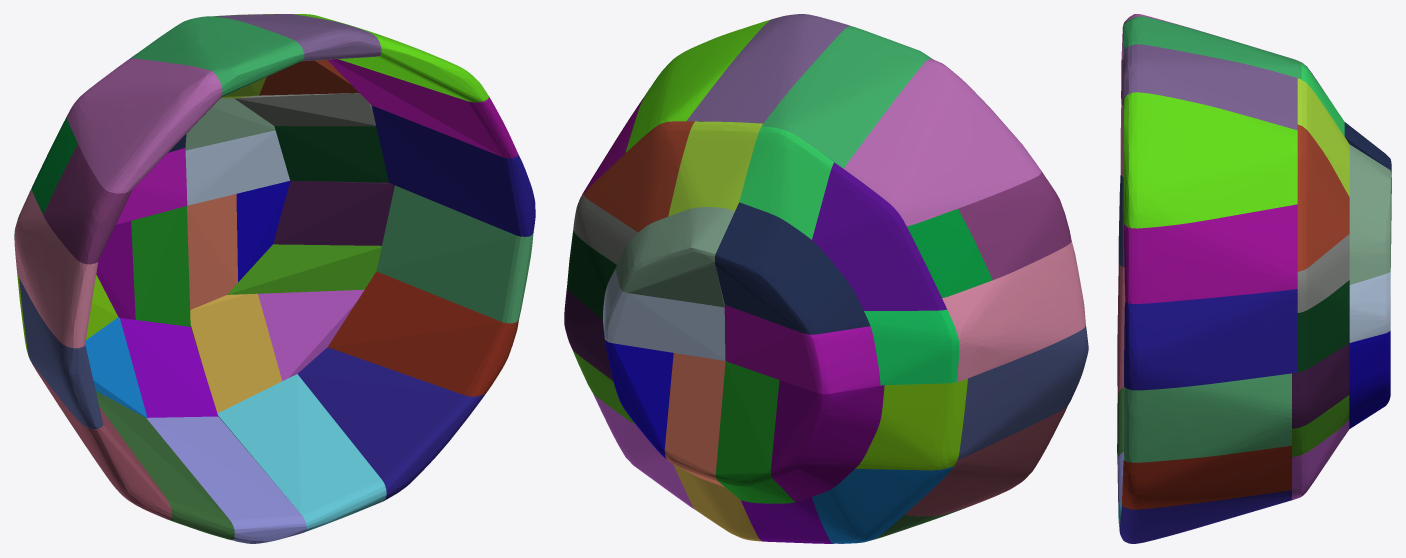
Rendered from coacd_collision.obj.
3 renders of one model, left to right at view 1: azimuth 30°, elevation 25°; view 2: azimuth 150°, elevation 25°; view 3: azimuth 270°, elevation 25°, orthographic. The views are drawn at different scales.
Parts seen in each view (by area): view 1: geometry_15, geometry_2, geometry_18, geometry_3, geometry_7, geometry_20, geometry_12, geometry_37, geometry_10, geometry_24, geometry_26, geometry_32 (+22 smaller); view 2: geometry_7, geometry_21, geometry_10, geometry_24, geometry_27, geometry_11, geometry_22, geometry_16, geometry_1, geometry_0, geometry_4, geometry_8 (+20 smaller); view 3: geometry_17, geometry_20, geometry_14, geometry_3, geometry_1, geometry_15, geometry_31, geometry_0, geometry_10, geometry_18, geometry_5, geometry_25 (+11 smaller).
Part boxes in pixels (x1,y1,x2,y2): geometry_15: (328,271,518,396); geometry_2: (217,374,386,531); geometry_18: (297,347,485,500); geometry_3: (376,185,533,323); geometry_7: (67,58,222,193); geometry_20: (371,105,535,236); geometry_12: (146,416,306,543); geometry_37: (190,293,281,413); geometry_10: (130,16,304,97); geometry_24: (14,188,97,348); geometry_26: (273,180,394,245); geometry_32: (120,318,218,417); geometry_7: (844,59,1041,226); geometry_21: (715,202,870,334); geometry_10: (761,26,933,168); geometry_24: (942,241,1085,381); geometry_27: (812,162,946,310); geometry_11: (770,380,884,501); geometry_22: (724,305,880,394); geometry_16: (957,326,1088,460); geometry_1: (686,14,850,123); geometry_0: (615,207,734,307); geometry_4: (855,378,967,470); geometry_8: (715,361,795,503); geometry_17: (1123,92,1297,228); geometry_20: (1124,289,1297,390); geometry_14: (1124,204,1297,303); geometry_3: (1123,373,1291,462); geometry_1: (1123,44,1297,130); geometry_15: (1122,445,1291,509); geometry_31: (1297,124,1349,271); geometry_0: (1349,144,1391,284); geometry_10: (1122,16,1301,79); geometry_18: (1119,490,1291,543); geometry_5: (1349,331,1390,428); geometry_25: (1297,280,1349,372).
Bounding box in the file's own units: 118 × 117 × 61.65.
